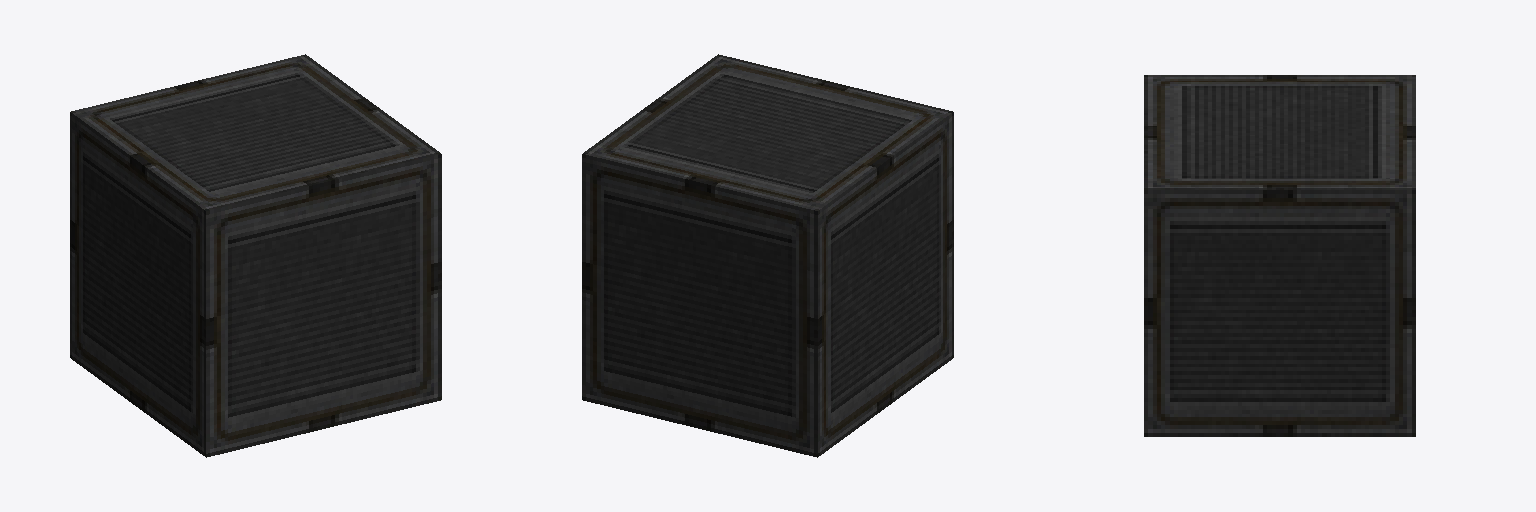
3 renders of one model, left to right at view 1: azimuth 30°, elevation 25°; view 2: azimuth 150°, elevation 25°; view 3: azimuth 270°, elevation 25°, orthographic.
Parts seen in each view (by area): view 1: crate1; view 2: crate1; view 3: crate1.
Boxes of the visible parts, x1,y1,x2,y2 form: crate1: [70, 54, 441, 457]; crate1: [582, 54, 953, 457]; crate1: [1144, 75, 1415, 436].
Bounding box in the file's own units: 1 × 1 × 1.
Materials: 2 (1 with a texture image).